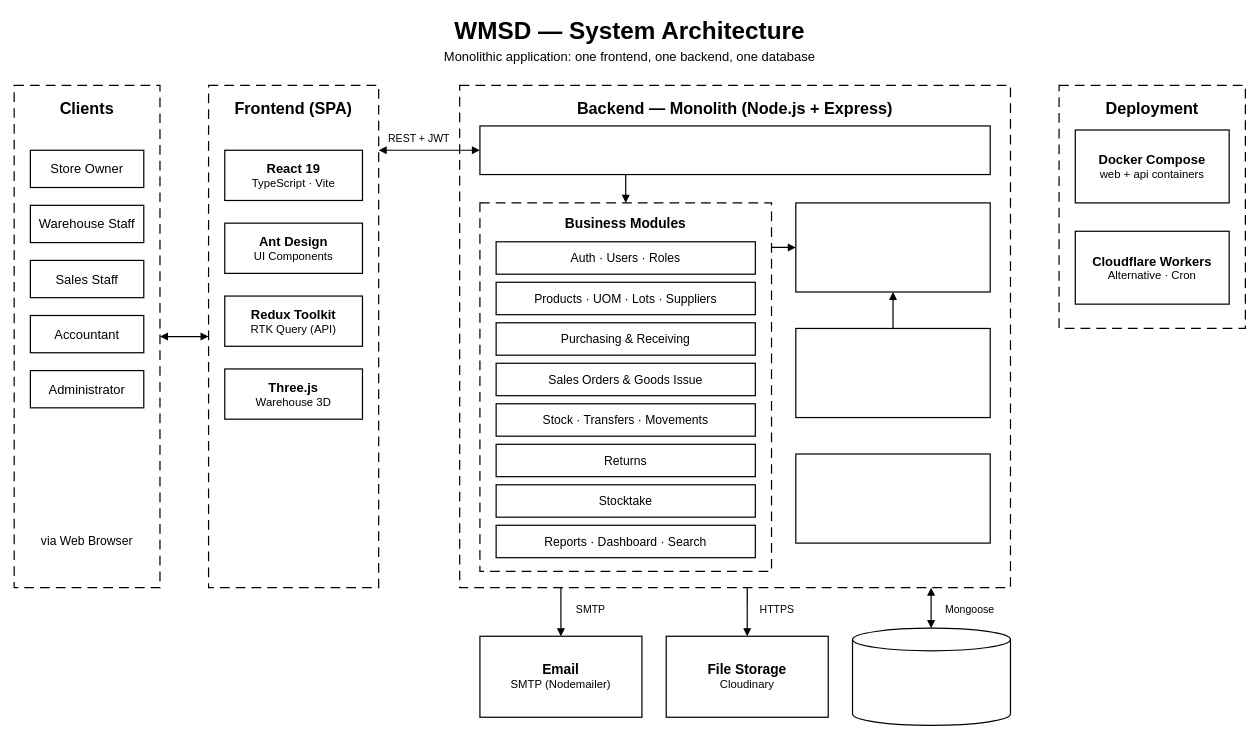
Image size: 1260x740. Some labels were removed from this diagram. Here are the shapes that lost their labels. From the top down, the centre of each, then its label:
point 734,150: API Layer Express Router · JWT Auth · Permission Check · Zod Validation
point 892,247: Shared Layer Mongoose Models Stock Posting · Audit
point 892,372: Background Jobs Outbox → Notifications Low-stock Scan · Email Retry
point 892,498: Monitoring Health Check · Metrics Error & Audit Logs
point 931,676: MongoDB Shared Database
